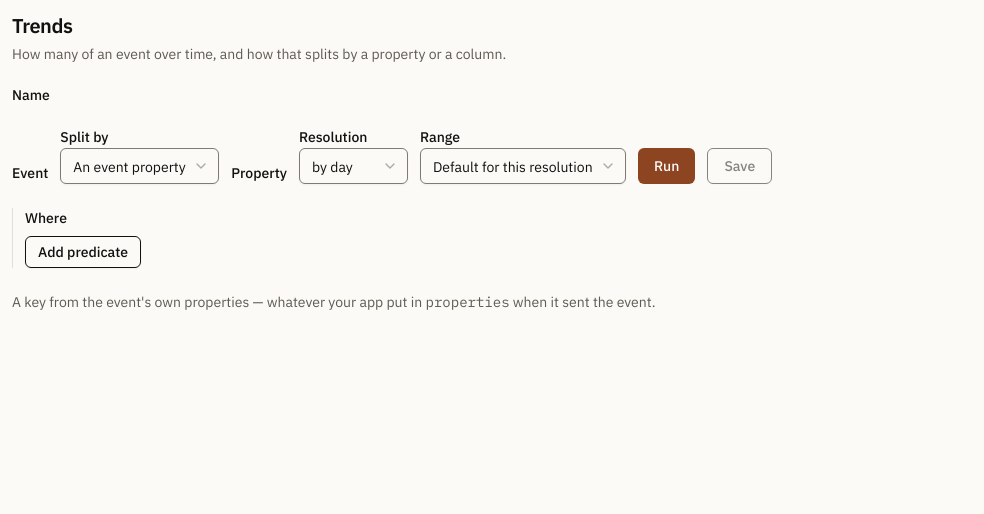
Test: Trends › says how many series were folded, so the panels reconcile with the total
The width and height of the screenshot is (984, 514).
Click the button "Run". click: (667, 166)
box: [638,148,695,184]
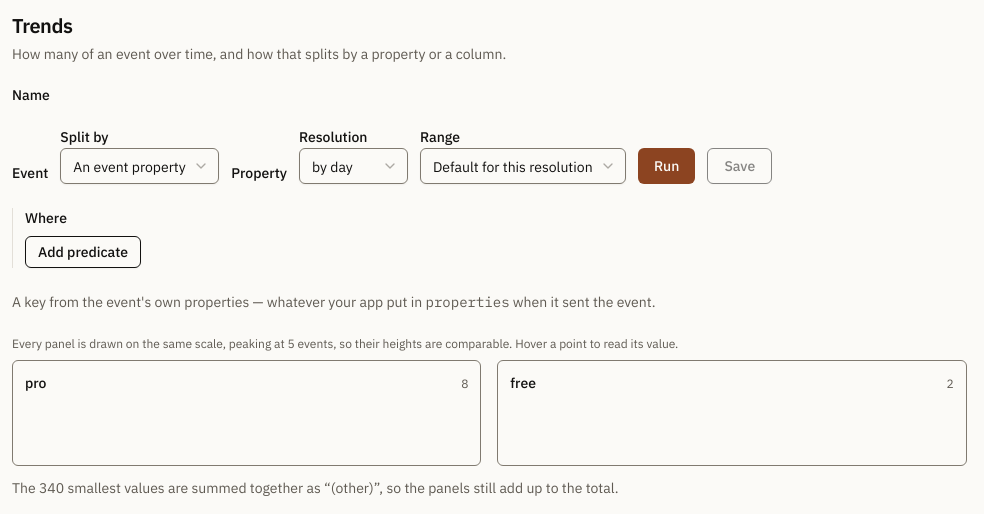
Result: the text with test id "trend-folded" is shown at [12,479,618,497]
Result: the text with test id "trend-folded" shows "340" at [39,479,64,497]
